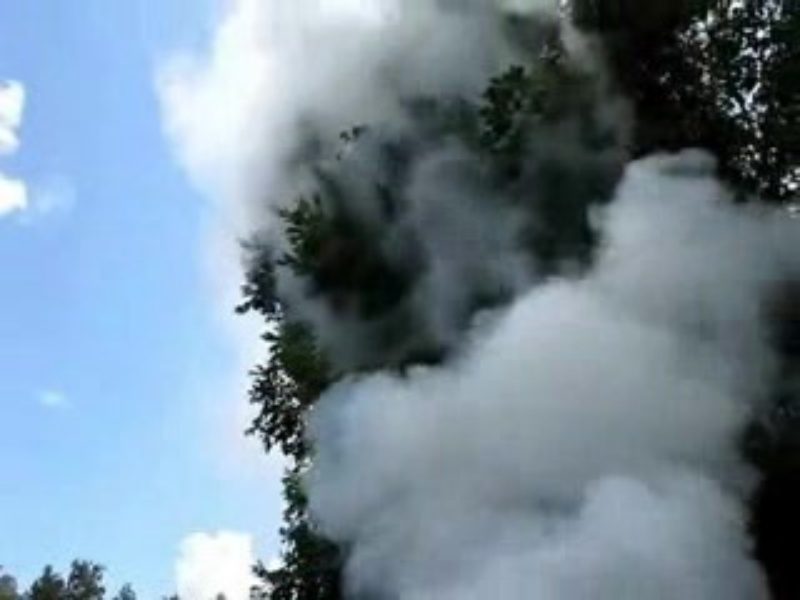smoke: (303, 154, 771, 599)
